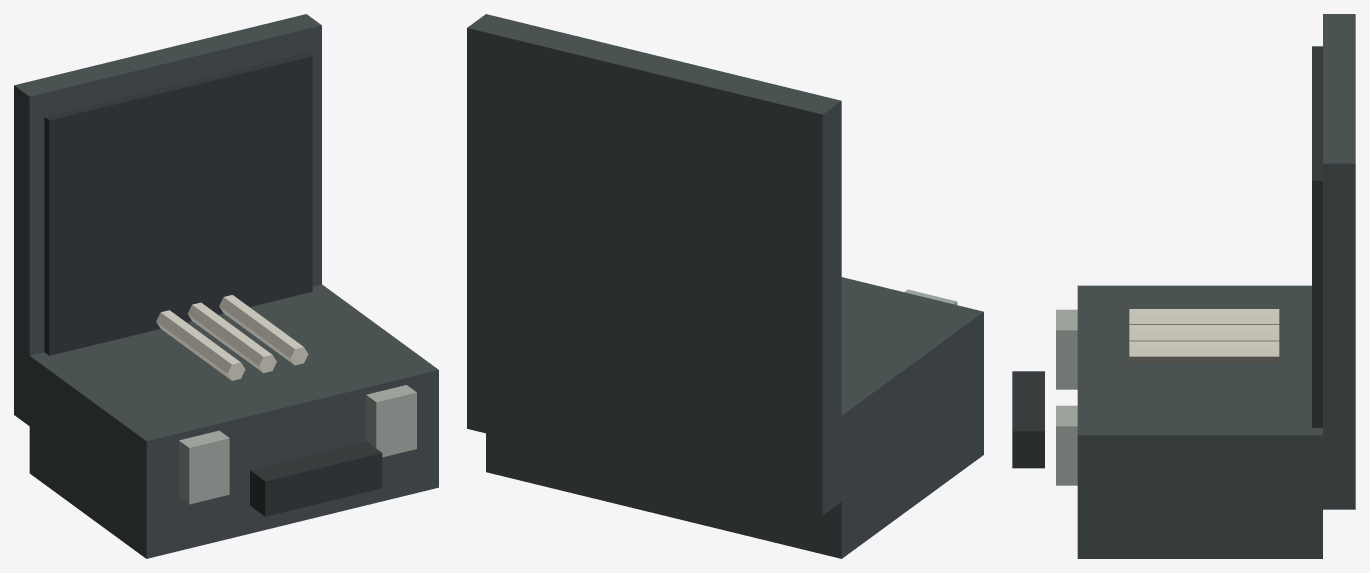
Rendered from blender_chalk_sigil_kit_1.glb.
3 renders of one model, left to right at view 1: azimuth 30°, elevation 25°; view 2: azimuth 150°, elevation 25°; view 3: azimuth 270°, elevation 25°, orthographic. The views are drawn at different scales.
Parts seen in each view (by area): view 1: blender_chalk_sigil_kit_1; view 2: blender_chalk_sigil_kit_1; view 3: blender_chalk_sigil_kit_1.
Part boxes in pixels (x1,y1,x2,y2): blender_chalk_sigil_kit_1: (14,14,438,558); blender_chalk_sigil_kit_1: (467,14,983,558); blender_chalk_sigil_kit_1: (1012,14,1355,558).
Size of the model in its own units: 0.13 by 0.16 by 0.126.
Materials: 1 (1 with a texture image).
